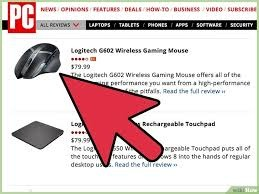mouse: (9, 38, 60, 81)
